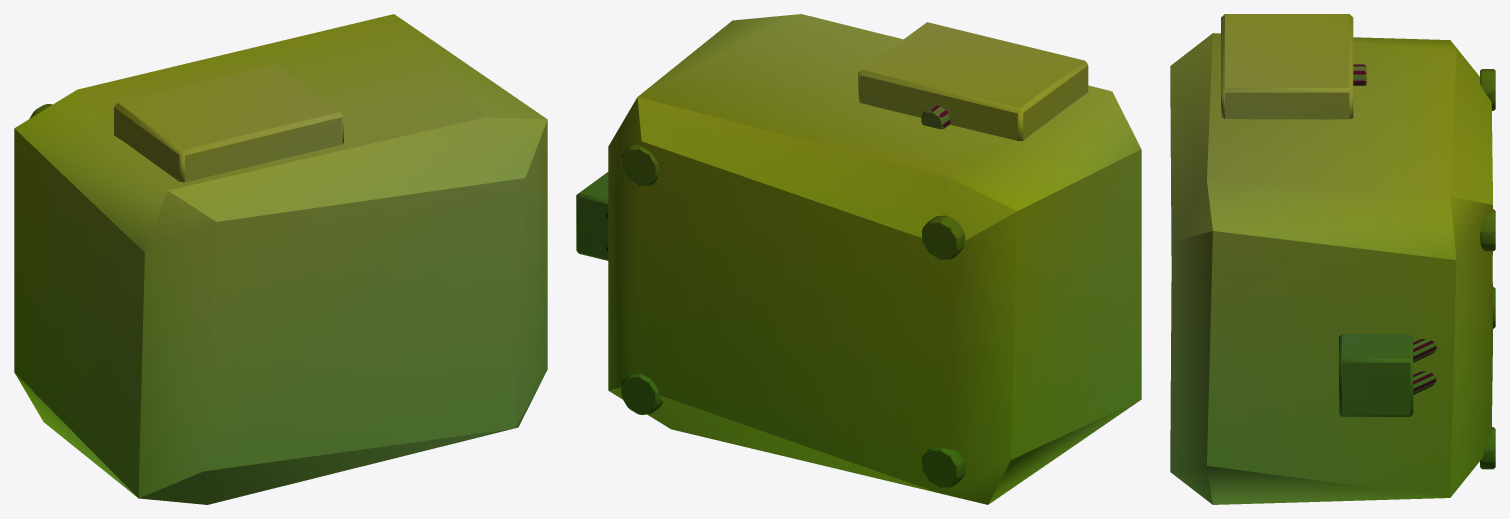
The model's file is RCLModule_scout_tank_desert_camo_sponsons.fbx.
The picture shows the model from 3 angles, left to right: view 1: azimuth 30°, elevation 25°; view 2: azimuth 150°, elevation 25°; view 3: azimuth 270°, elevation 25°; orthographic projection. The views are drawn at different scales.
Visible parts, largest first — view 1: RCLModule_scout_tank_desert_camo_sponsons_Batch_RCLModuleMat; view 2: RCLModule_scout_tank_desert_camo_sponsons_Batch_RCLModuleMat (×2); view 3: RCLModule_scout_tank_desert_camo_sponsons_Batch_RCLModuleMat (×2).
Boxes of the visible parts, x1,y1,x2,y2 form: RCLModule_scout_tank_desert_camo_sponsons_Batch_RCLModuleMat: [14, 14, 547, 504]; RCLModule_scout_tank_desert_camo_sponsons_Batch_RCLModuleMat (×2): [576, 14, 1141, 504]; RCLModule_scout_tank_desert_camo_sponsons_Batch_RCLModuleMat (×2): [1170, 14, 1495, 504].
Size of the model in its own units: 51.59 by 39.2 by 32.93.
